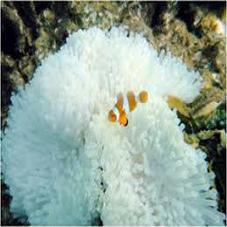bleached_corals: (2, 27, 225, 226)
